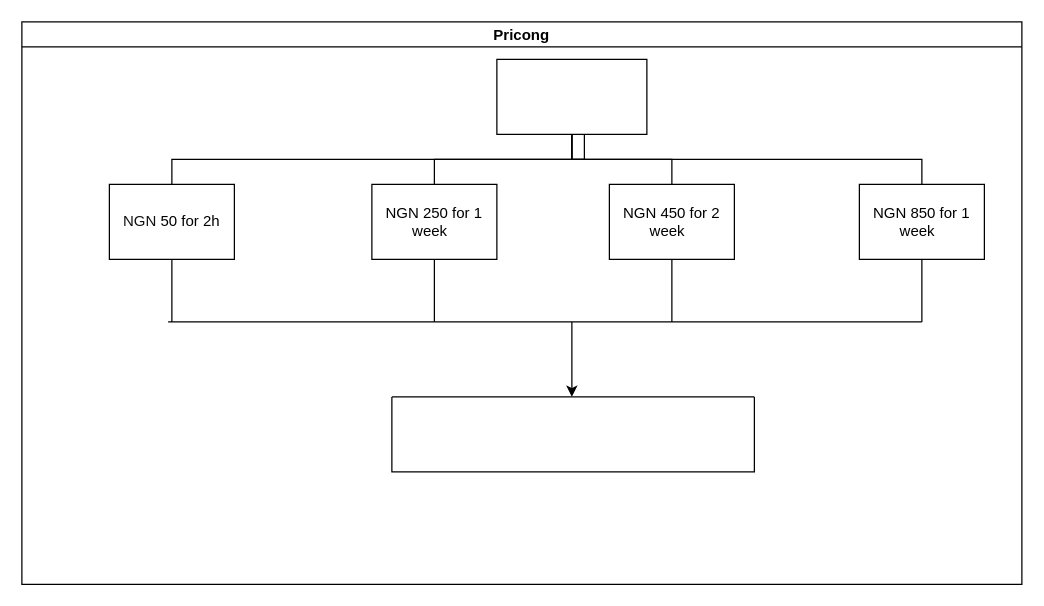
The diagram is 1044 pixels wide and 606 high, and some of its shapes have lost their labels. The centre of each missing label's shape, as x and y in pixels:
"Free/Signup" belongs at [571,96].
"Same Functions" belongs at [572,434].
